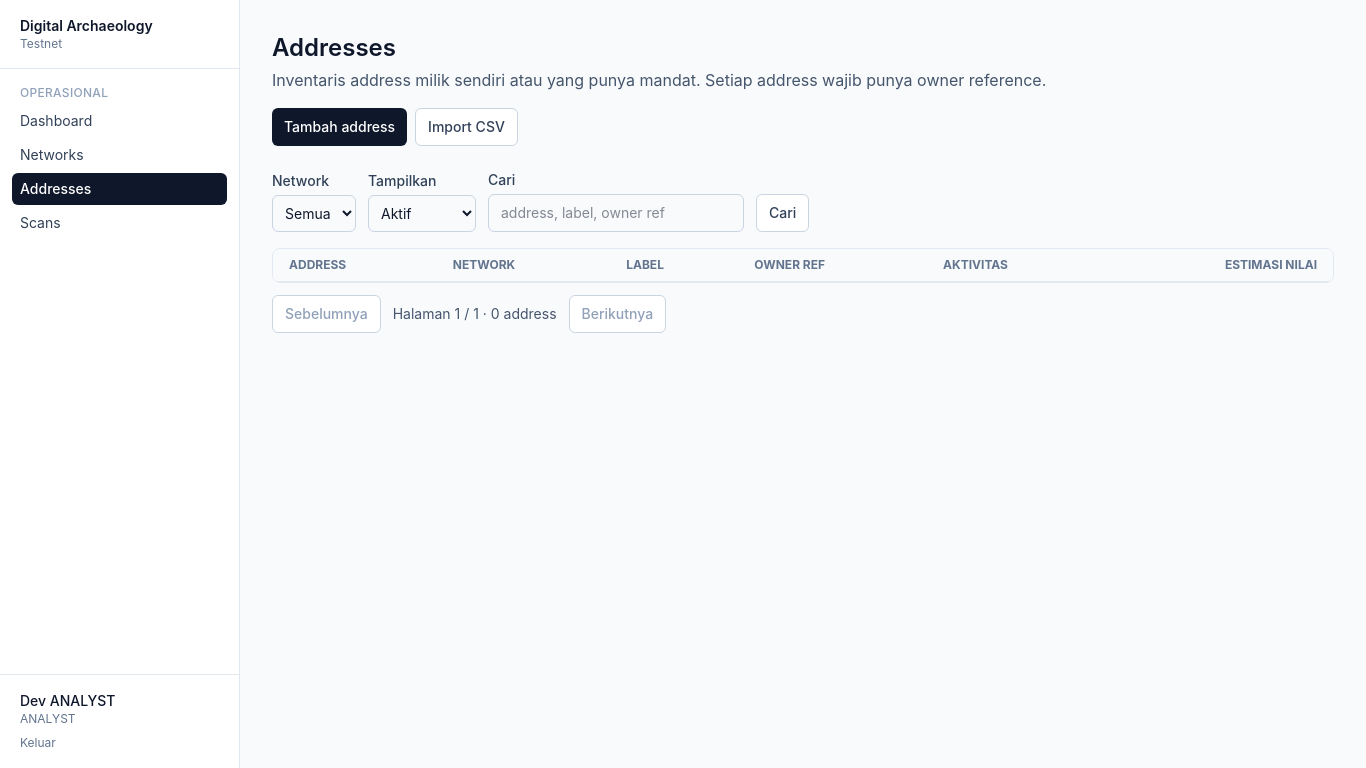
Test: Addresses page › shows the server error when creating an address fails
Click the button "Tambah address". click: (340, 127)
box: [272,108,407,146]
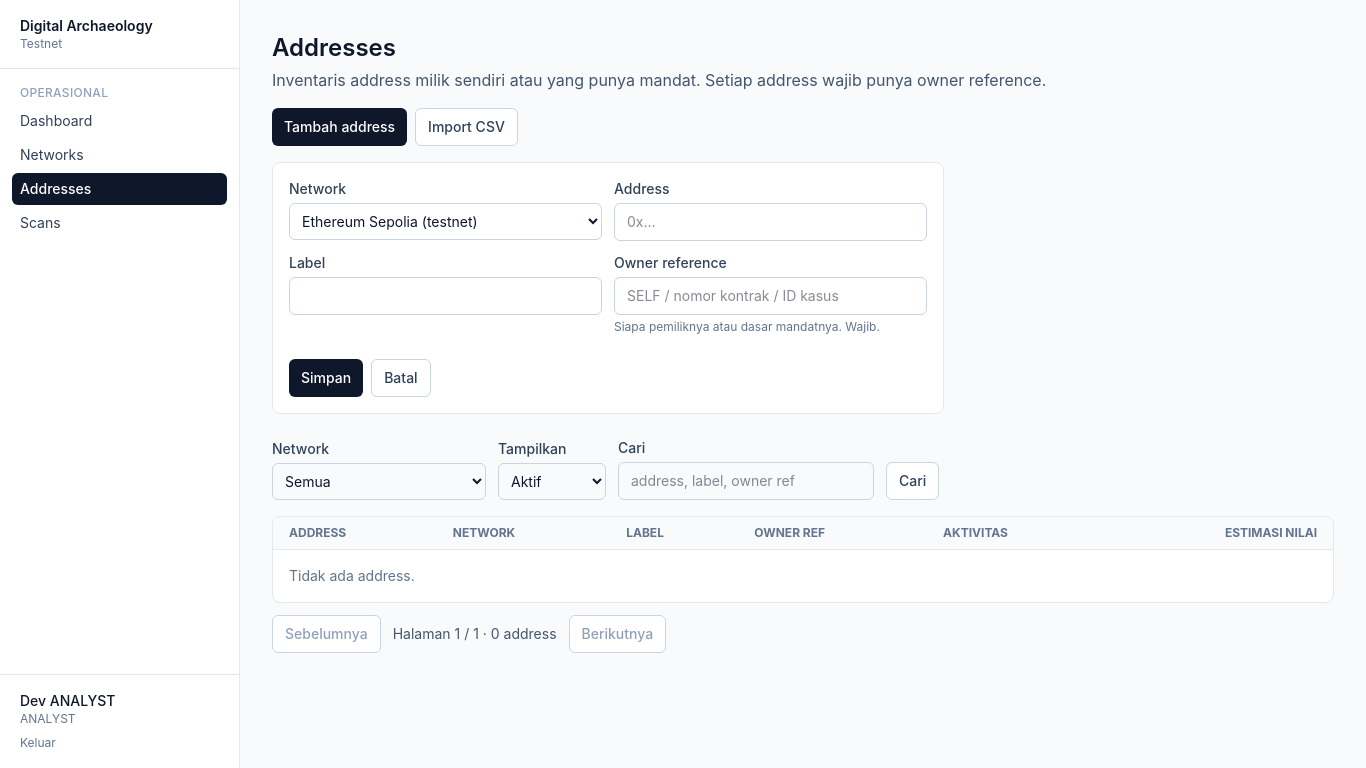
Type "0x5AAeb6053F3E94C9b9A09f33669435E7Ef1BeAed" into the field labelled "Address". click: (770, 222)
box: [614,203,927,241]
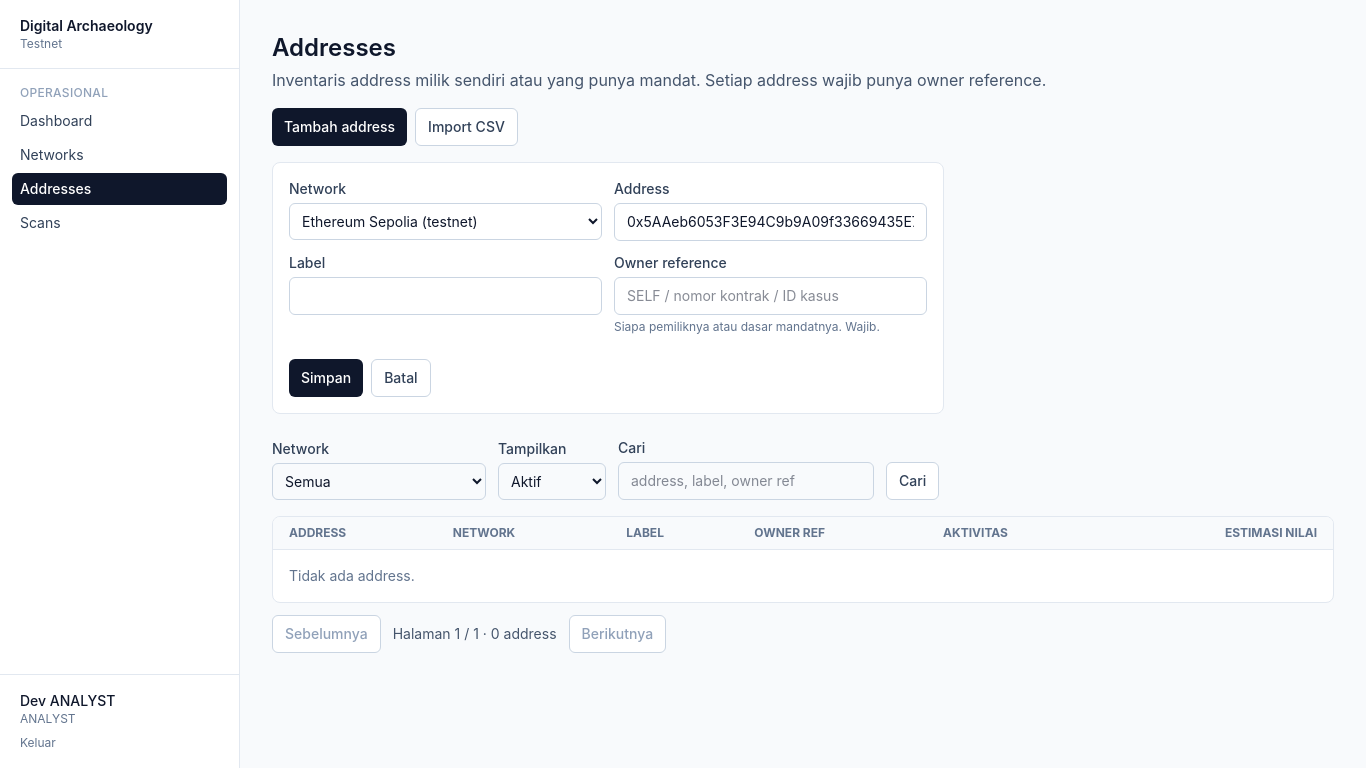
Type "SELF" into the field labelled "Owner reference". click: (770, 296)
box: [614,277,927,315]
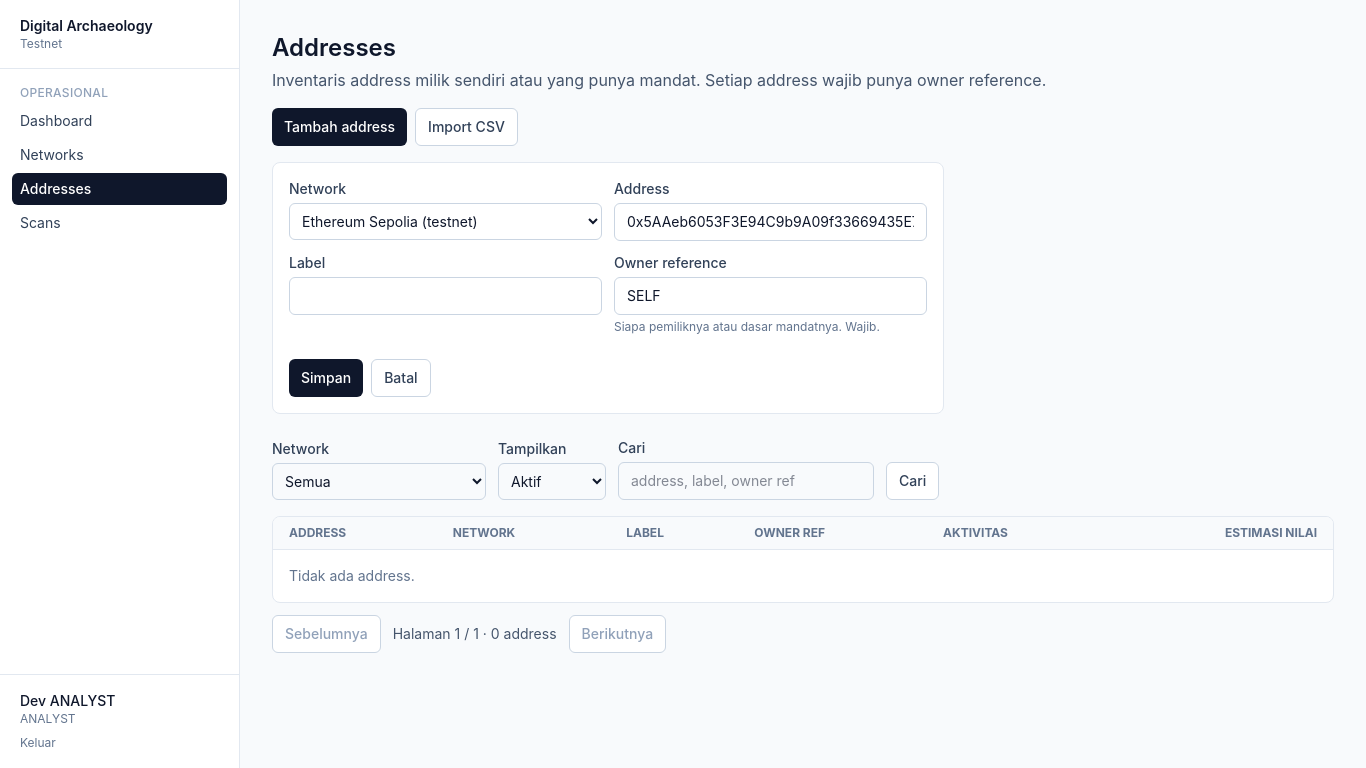
Click the button "Simpan". click: (326, 378)
box: [289,359,363,397]
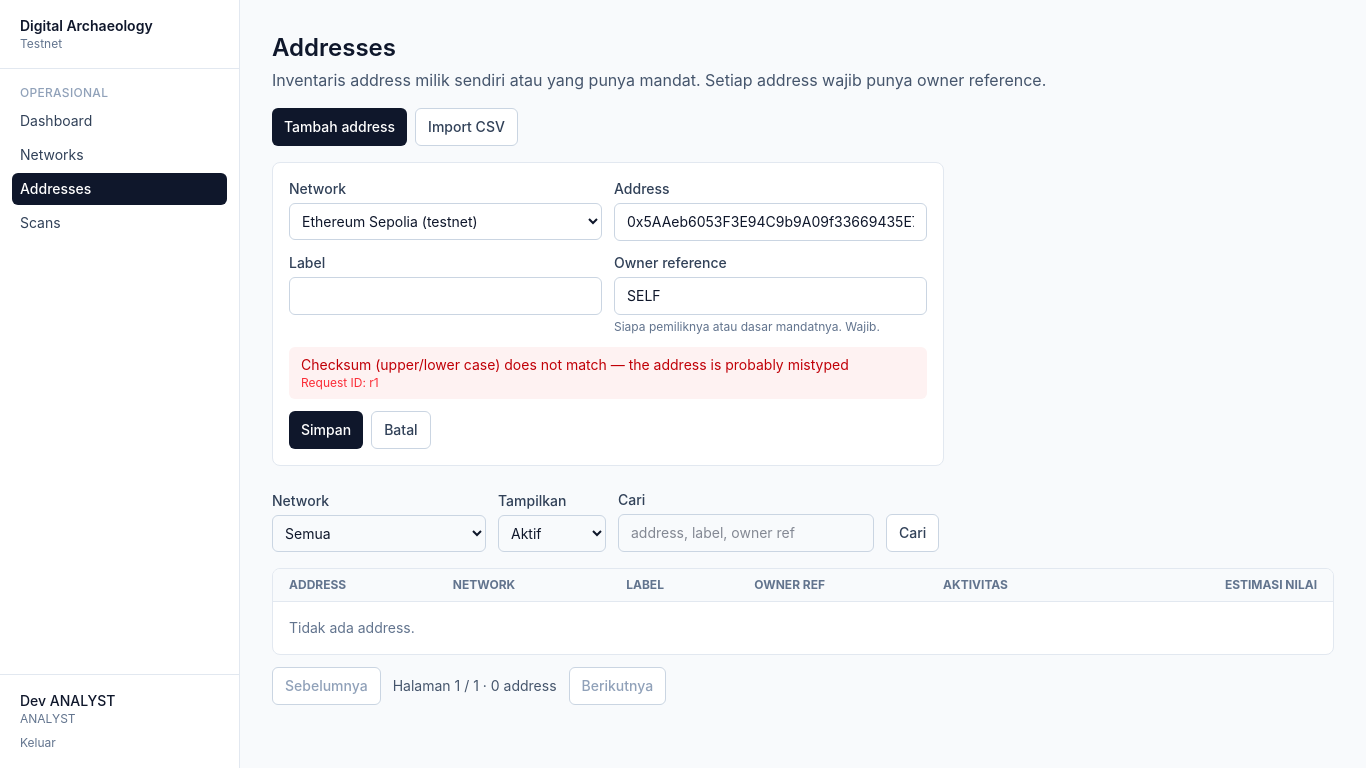
Result: the message shows "probably mistyped" at [301,356,849,373]
